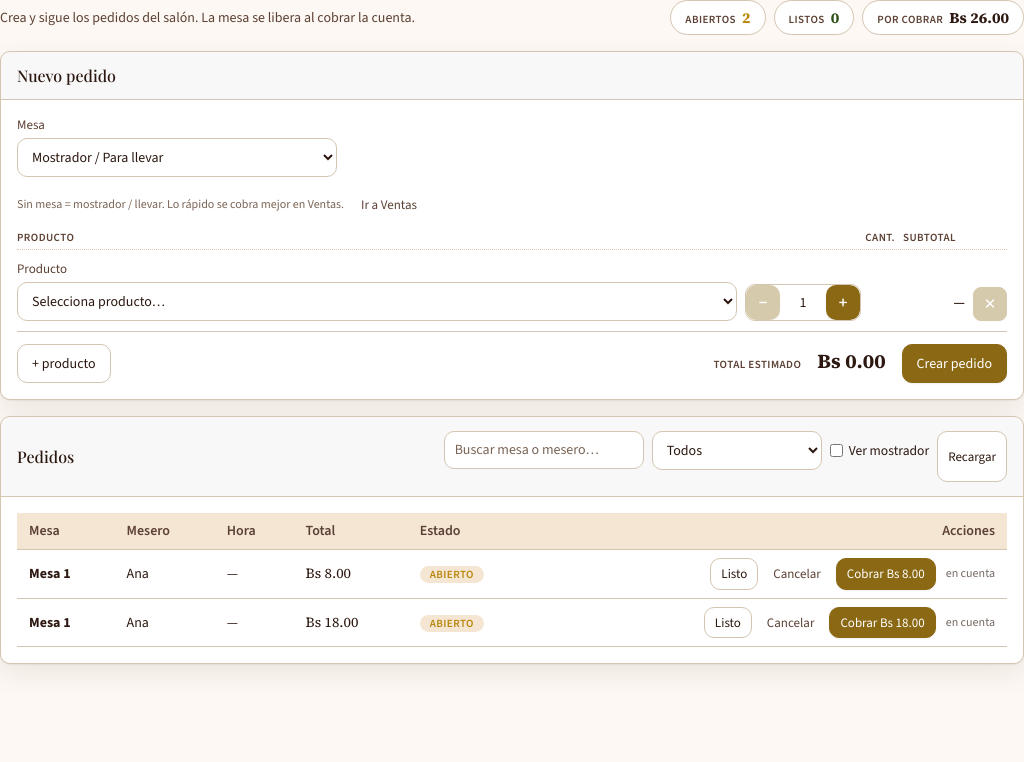
it: PedidosPage › cuenta agrupada: expande y muestra productos agregados
Note: preselecciona mesa m1 via combo para activar cuenta agrupada
Select "Mesa 1 — ocupada" in the 1st dropdown at point(177, 158), box [17, 138, 337, 177]
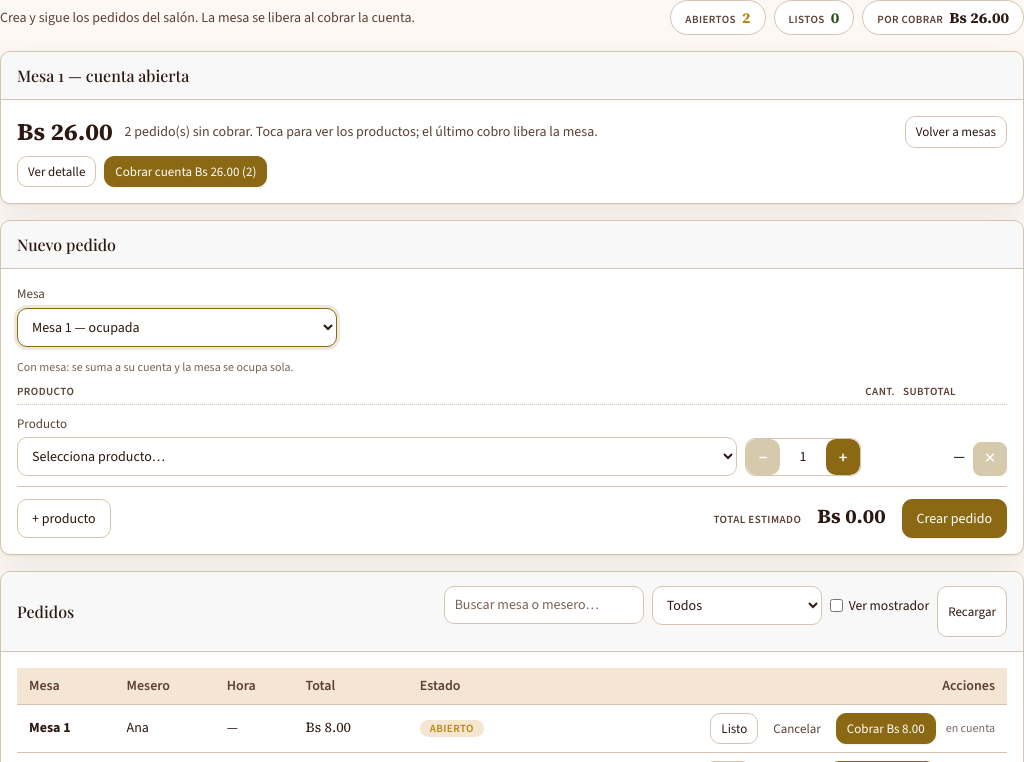
Now the heading "Mesa 1 — cuenta abierta" is shown, box [17, 66, 189, 85]
Click the button "Ver detalle" at point(57, 171), box [17, 156, 96, 187]
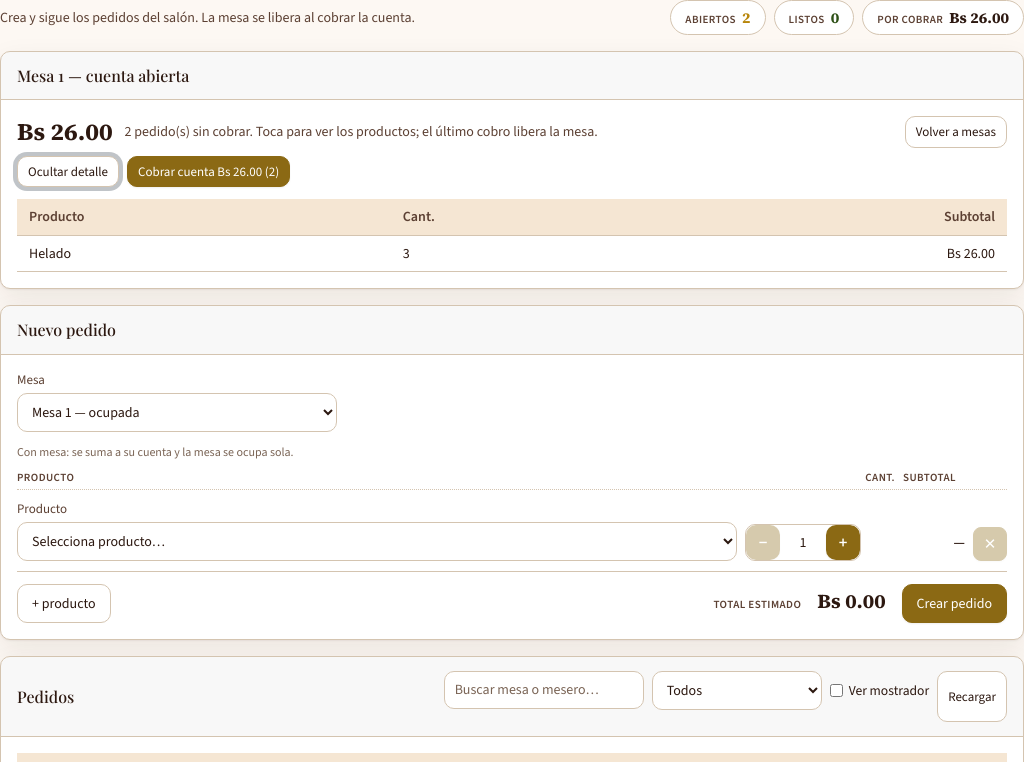
Now the text "Helado" is shown, box [17, 235, 391, 272]
